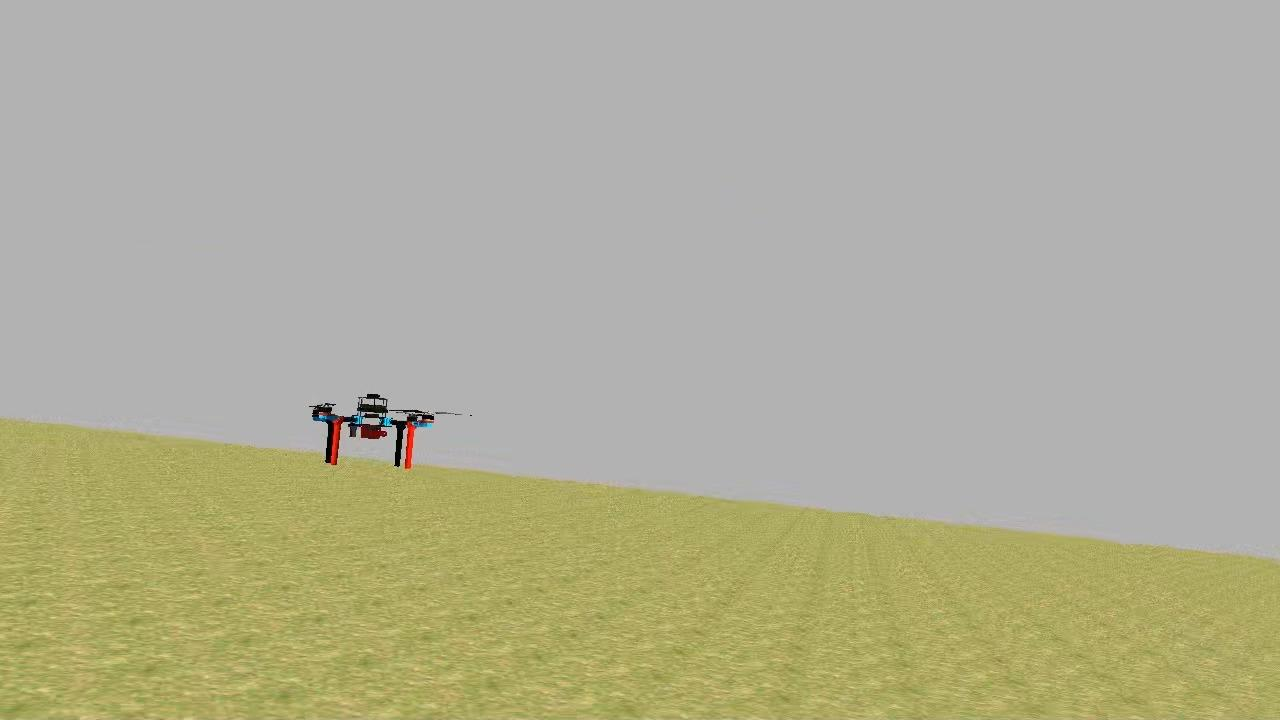UAV: (306, 387, 440, 474)
